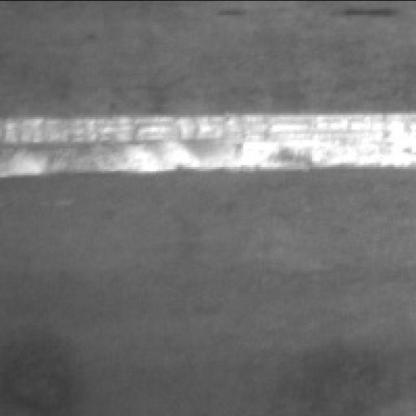scratches: (0, 100, 412, 179)
